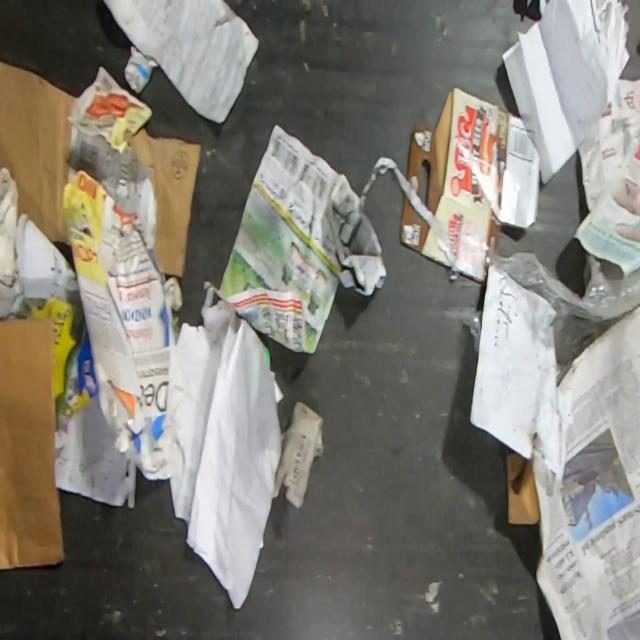cardboard: (0, 57, 203, 279), (406, 85, 541, 283), (0, 314, 66, 573), (398, 191, 452, 269), (503, 445, 540, 525)
soft_plastic: (478, 241, 640, 389), (461, 307, 484, 358)
